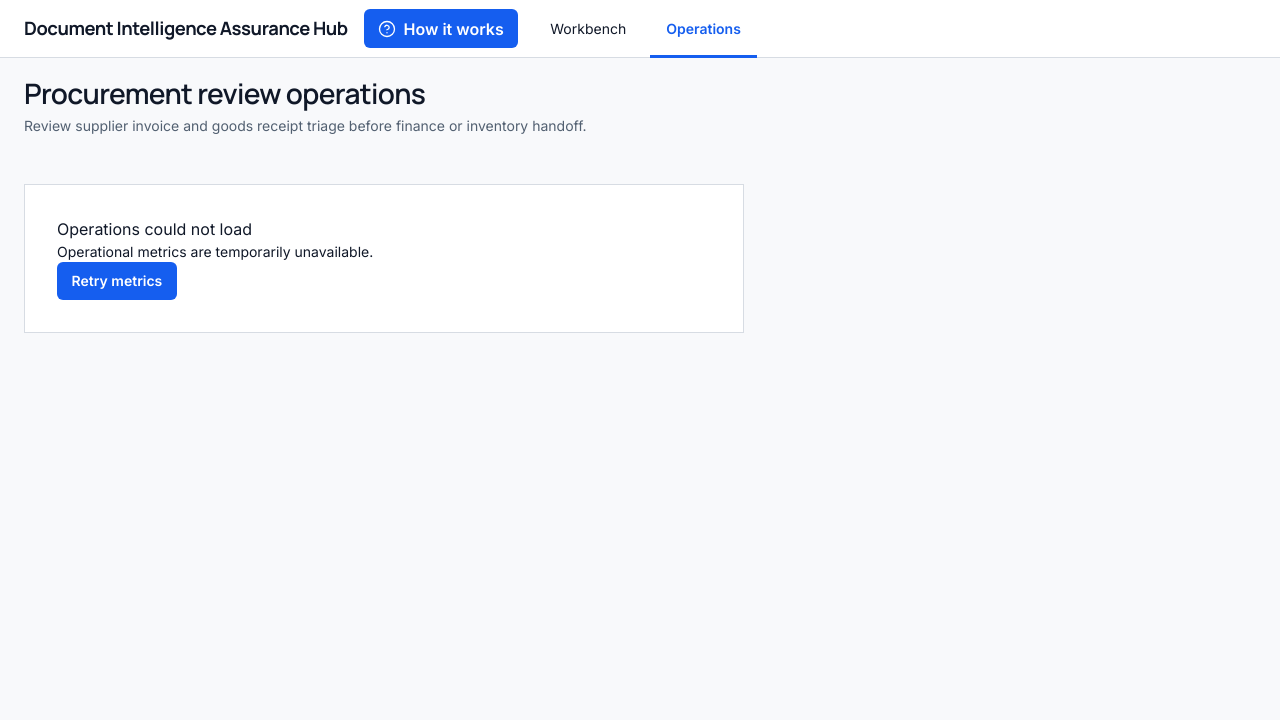
Scenario: Operations metric claims › keeps the Operations tour unavailable after a route-level metrics error
What coordinates should you click on to do the following:
click the button "How it works"
I would click on:
 (441, 28)
Its box is top-left (364, 9), bottom-right (518, 48).
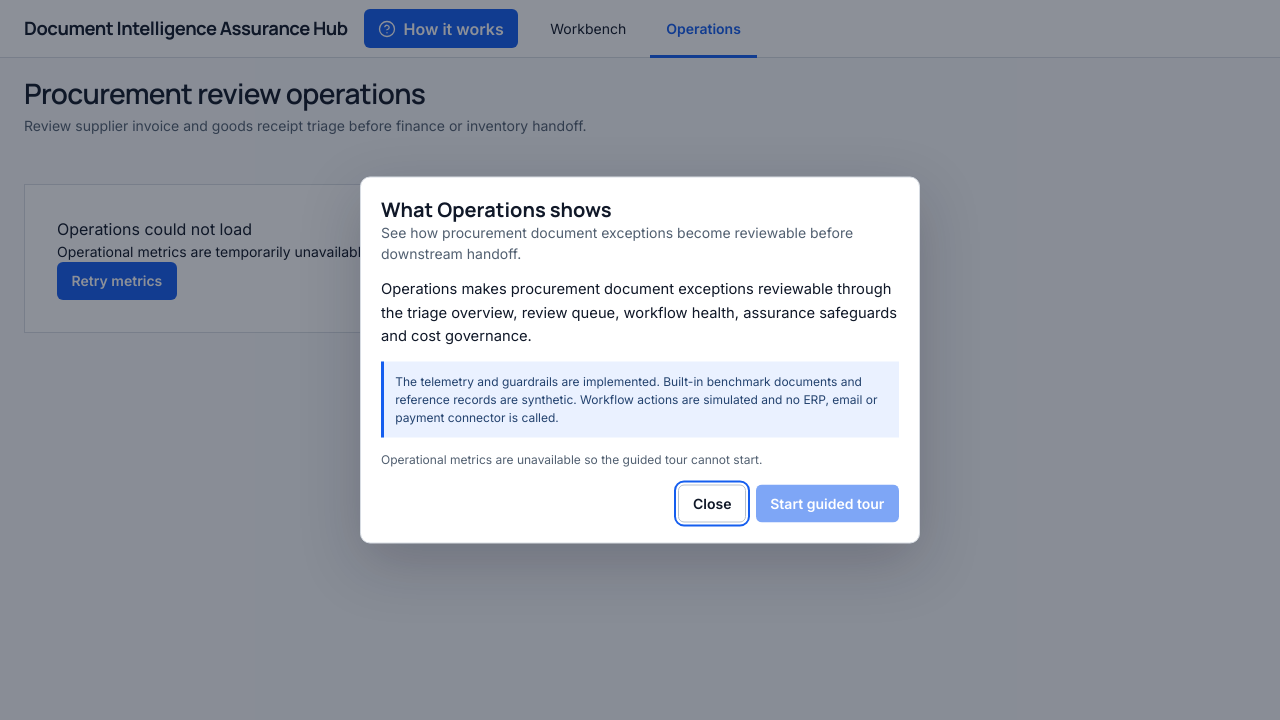
Check: the button "Start guided tour" is disabled, box top-left (756, 484), bottom-right (899, 522)
